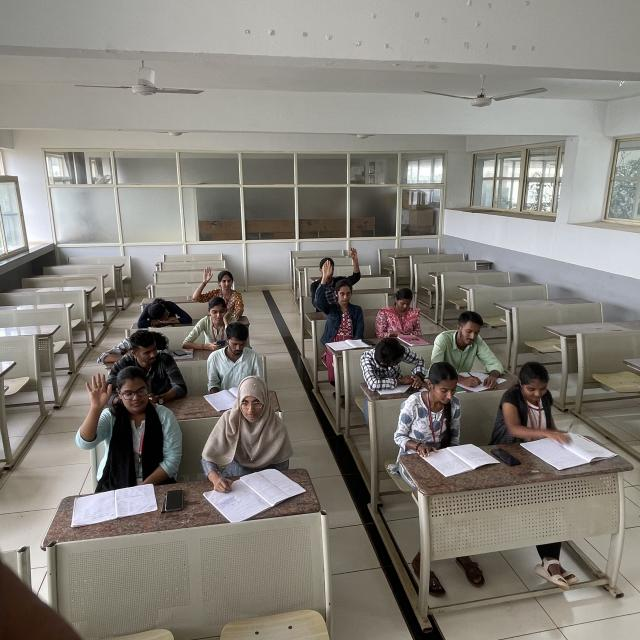Hand Rising: (73, 369, 183, 493), (316, 259, 364, 344), (190, 266, 244, 311), (314, 248, 361, 286)
Reading: (497, 361, 574, 466), (395, 360, 466, 468), (205, 322, 267, 396)
Sleeping: (134, 295, 195, 328)
Using Phone: (108, 332, 182, 392), (183, 297, 231, 357), (376, 288, 424, 337)
Writing: (200, 376, 297, 510), (434, 311, 504, 386)
